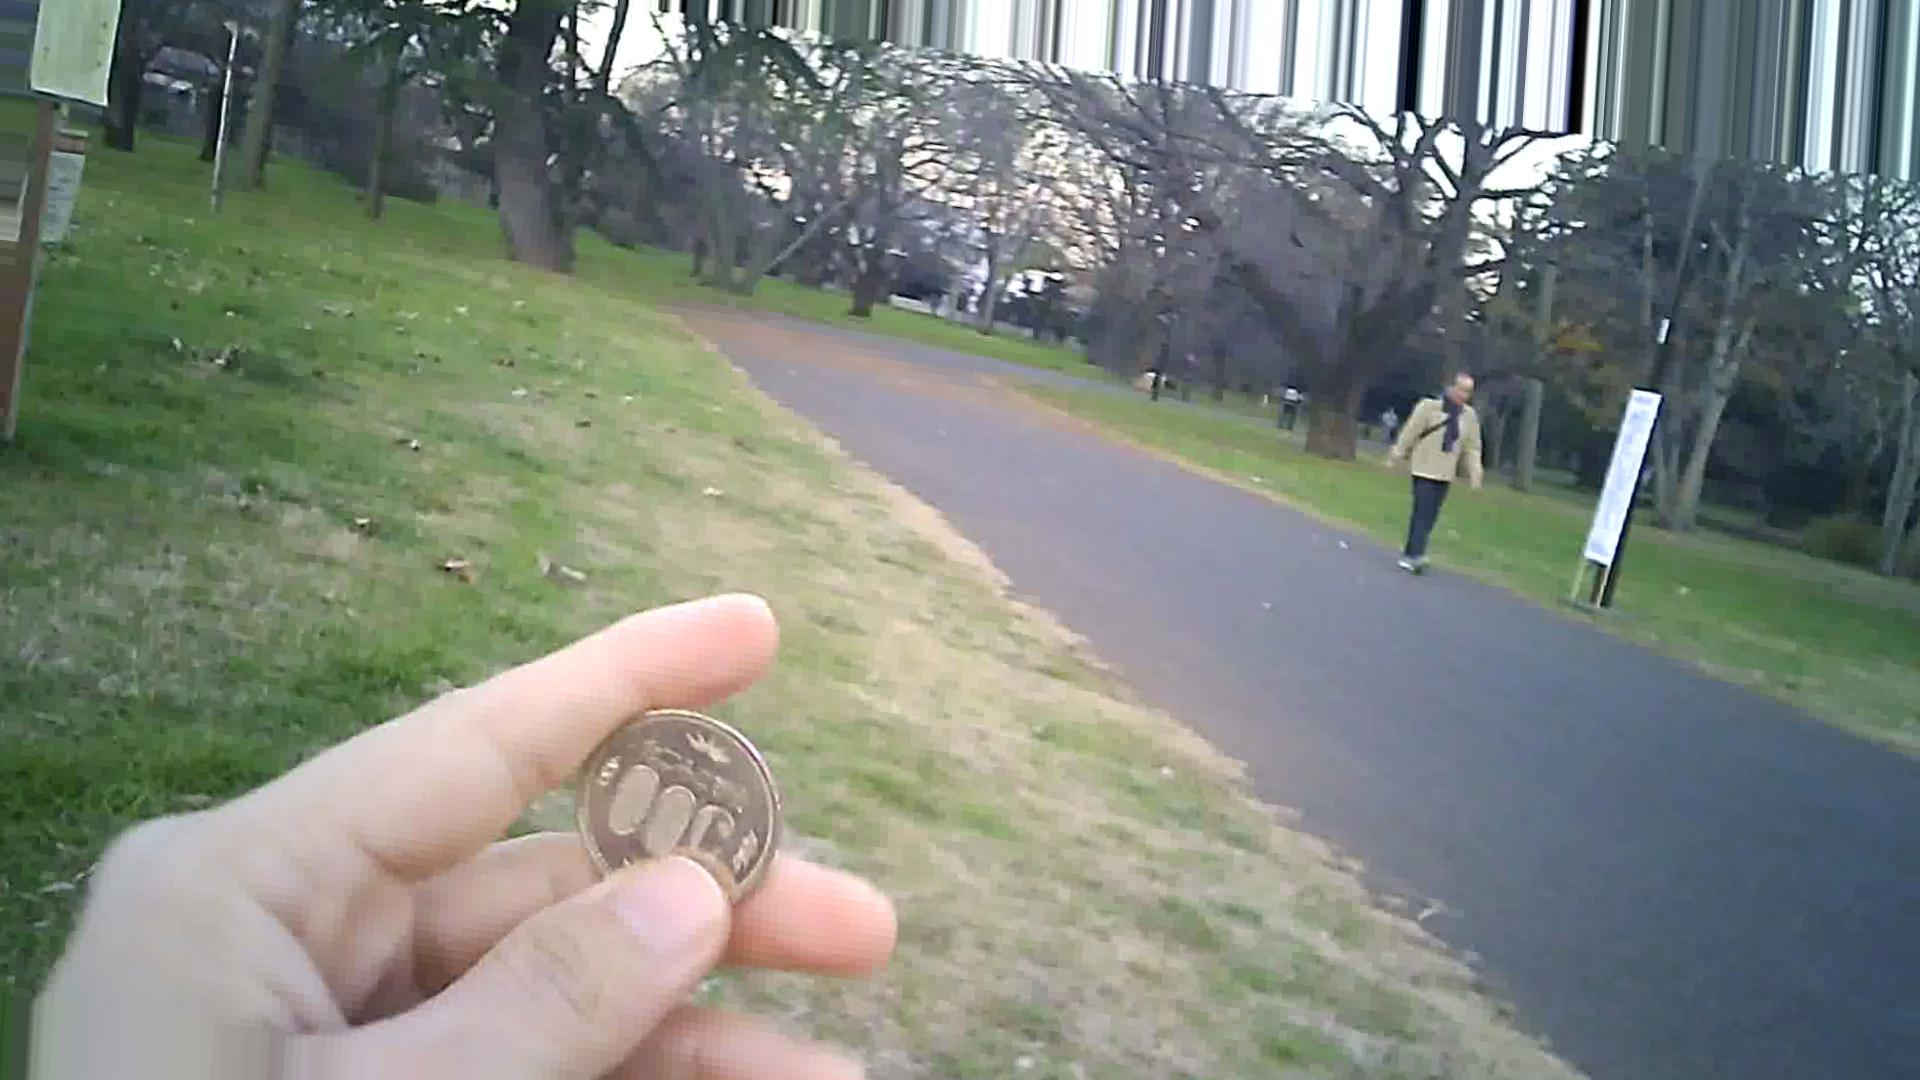500 Yen: (553, 702, 793, 905)
